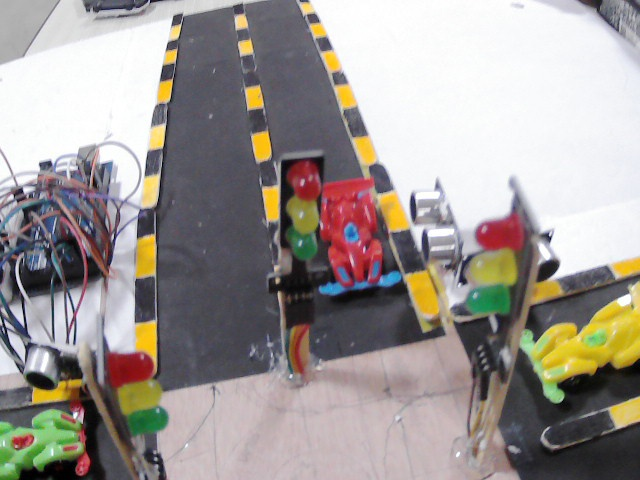black_strip: (545, 408, 613, 444), (388, 227, 425, 272), (556, 264, 613, 288), (134, 277, 156, 320), (346, 107, 370, 140), (370, 161, 392, 188), (258, 157, 279, 184), (136, 207, 154, 237), (248, 107, 267, 134), (1, 389, 29, 407), (242, 55, 260, 83), (269, 219, 280, 260), (152, 102, 169, 124), (146, 150, 160, 175), (160, 59, 175, 79), (317, 37, 332, 54), (166, 38, 179, 53), (308, 8, 320, 22), (332, 71, 348, 80), (238, 26, 251, 37), (169, 12, 181, 23), (233, 3, 241, 12)
car: (520, 285, 640, 397), (320, 173, 401, 293), (0, 404, 91, 480)
mixed_lane: (295, 0, 446, 320), (130, 13, 181, 360), (227, 0, 282, 262), (535, 250, 640, 307), (537, 393, 640, 451), (0, 374, 83, 409)
traffic_light: (466, 201, 529, 371), (98, 323, 169, 447), (276, 153, 326, 285)
uno_breadboard: (10, 142, 127, 331), (408, 176, 468, 273), (17, 339, 80, 393), (535, 227, 560, 291)
yellow_strip: (406, 271, 437, 324), (135, 237, 157, 279), (382, 193, 405, 231), (613, 397, 640, 424), (135, 324, 156, 357), (264, 185, 281, 221), (140, 177, 158, 211), (537, 277, 560, 302), (254, 129, 272, 159), (615, 254, 637, 278), (356, 136, 373, 167), (242, 84, 262, 109), (149, 121, 165, 149), (158, 80, 175, 103), (336, 83, 352, 107), (324, 51, 337, 71), (239, 38, 251, 57), (311, 24, 326, 37), (168, 23, 180, 37), (300, 1, 312, 12), (237, 15, 247, 28), (164, 52, 177, 62)
